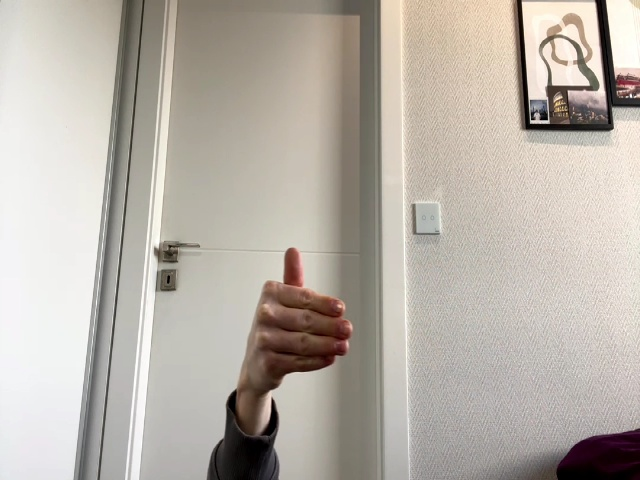M: (248, 248, 353, 394)
